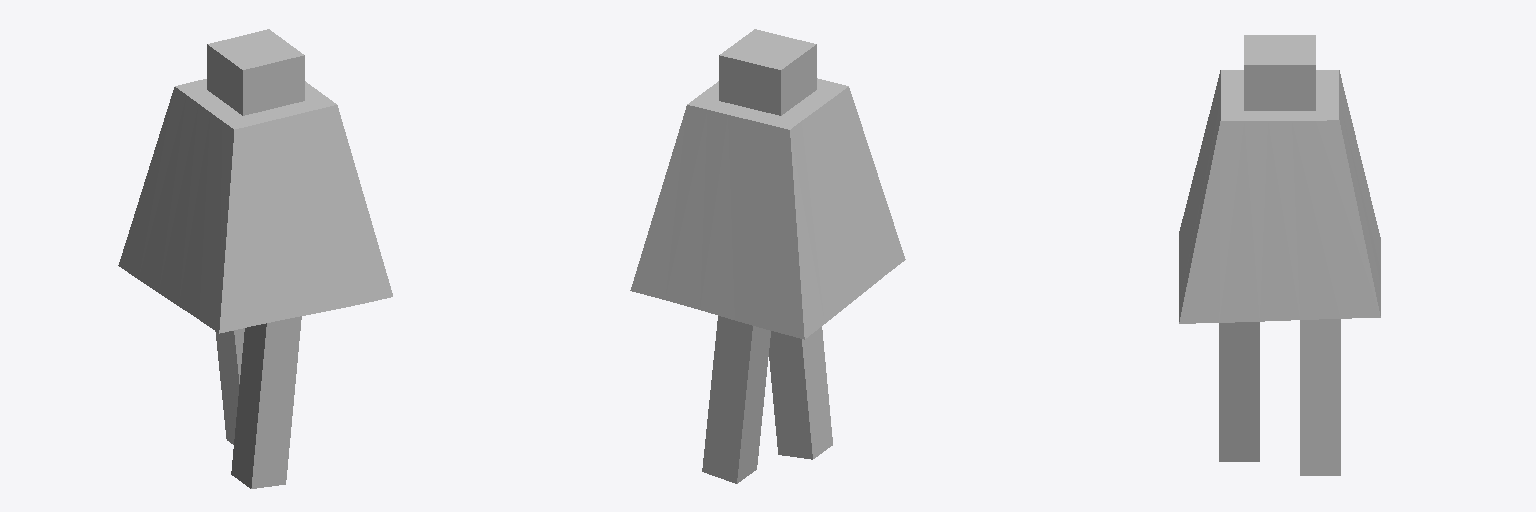
File: essai_000044.obj
3 renders of one model, left to right at view 1: azimuth 30°, elevation 25°; view 2: azimuth 150°, elevation 25°; view 3: azimuth 270°, elevation 25°, orthographic.
Parts seen in each view (by area): view 1: Cube; view 2: Cube; view 3: Cube.
Boxes of the visible parts, x1=… form: Cube: x1=118, y1=29, x2=392, y2=488; Cube: x1=630, y1=29, x2=905, y2=483; Cube: x1=1179, y1=35, x2=1380, y2=475.
Size of the model in its own units: 2 by 4.51 by 2.